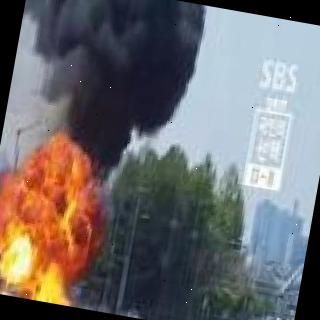fire: (0, 170, 110, 298), (16, 140, 110, 189), (26, 290, 76, 307)
